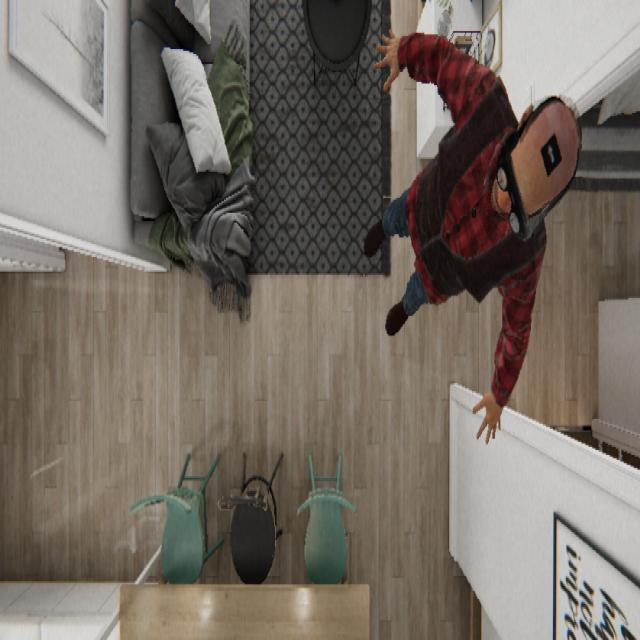Human: (363, 26, 582, 445)
UnityLogo: (539, 129, 562, 177)
